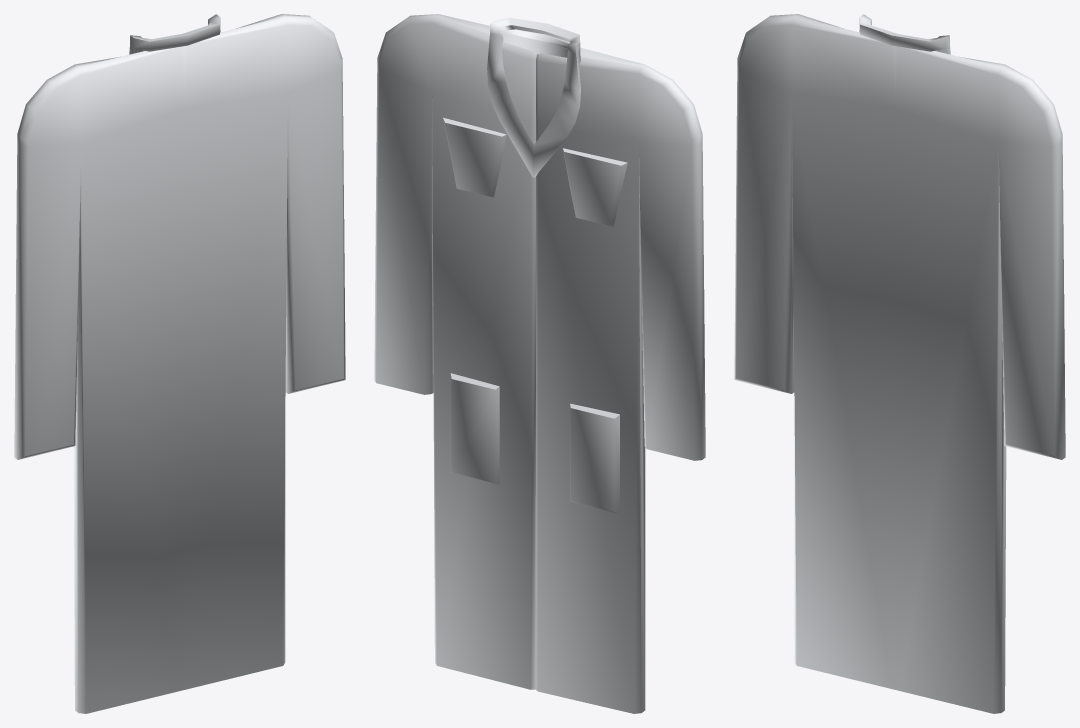
Rendered from ppe_lab_gown.glb.
3 renders of one model, left to right at view 1: azimuth 30°, elevation 25°; view 2: azimuth 150°, elevation 25°; view 3: azimuth 330°, elevation 25°, orthographic.
Visible parts, largest first — view 1: ppe_lab_gown; view 2: ppe_lab_gown; view 3: ppe_lab_gown.
Boxes of the visible parts, <box> form: ppe_lab_gown: <box>14,14,345,713</box>; ppe_lab_gown: <box>374,14,705,713</box>; ppe_lab_gown: <box>734,14,1065,713</box>.
Bounding box in the file's own units: 67.12 × 129 × 5.25.
Materials: 1 (1 with a texture image).
